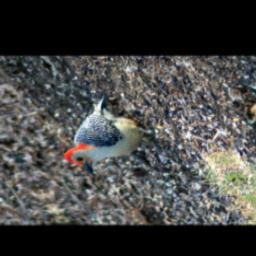Woodpecker: (28, 94, 187, 177)
